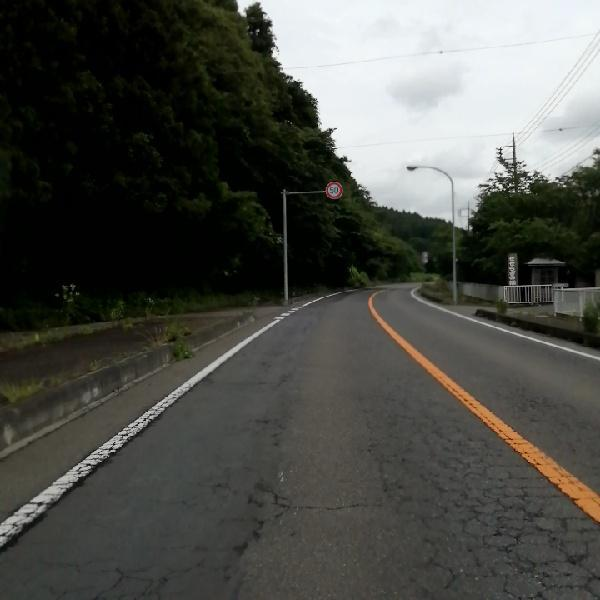D10: (275, 487, 385, 513)
D20: (34, 380, 300, 598), (395, 384, 597, 599)
